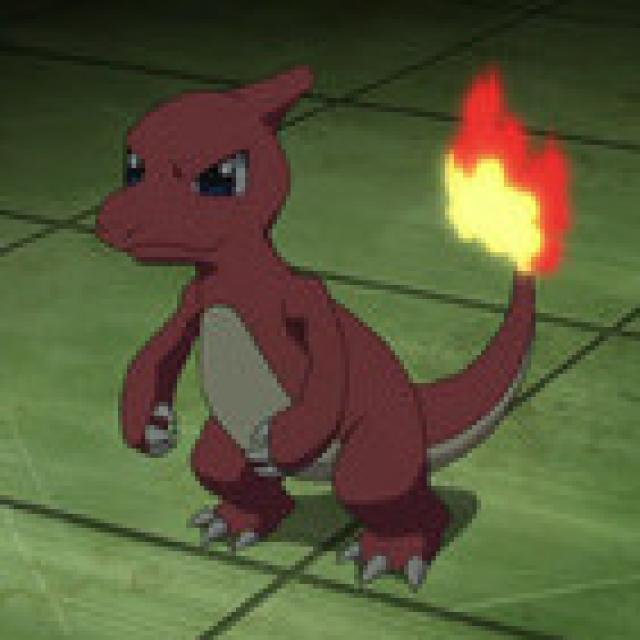Charmeleon: (95, 64, 462, 545)
